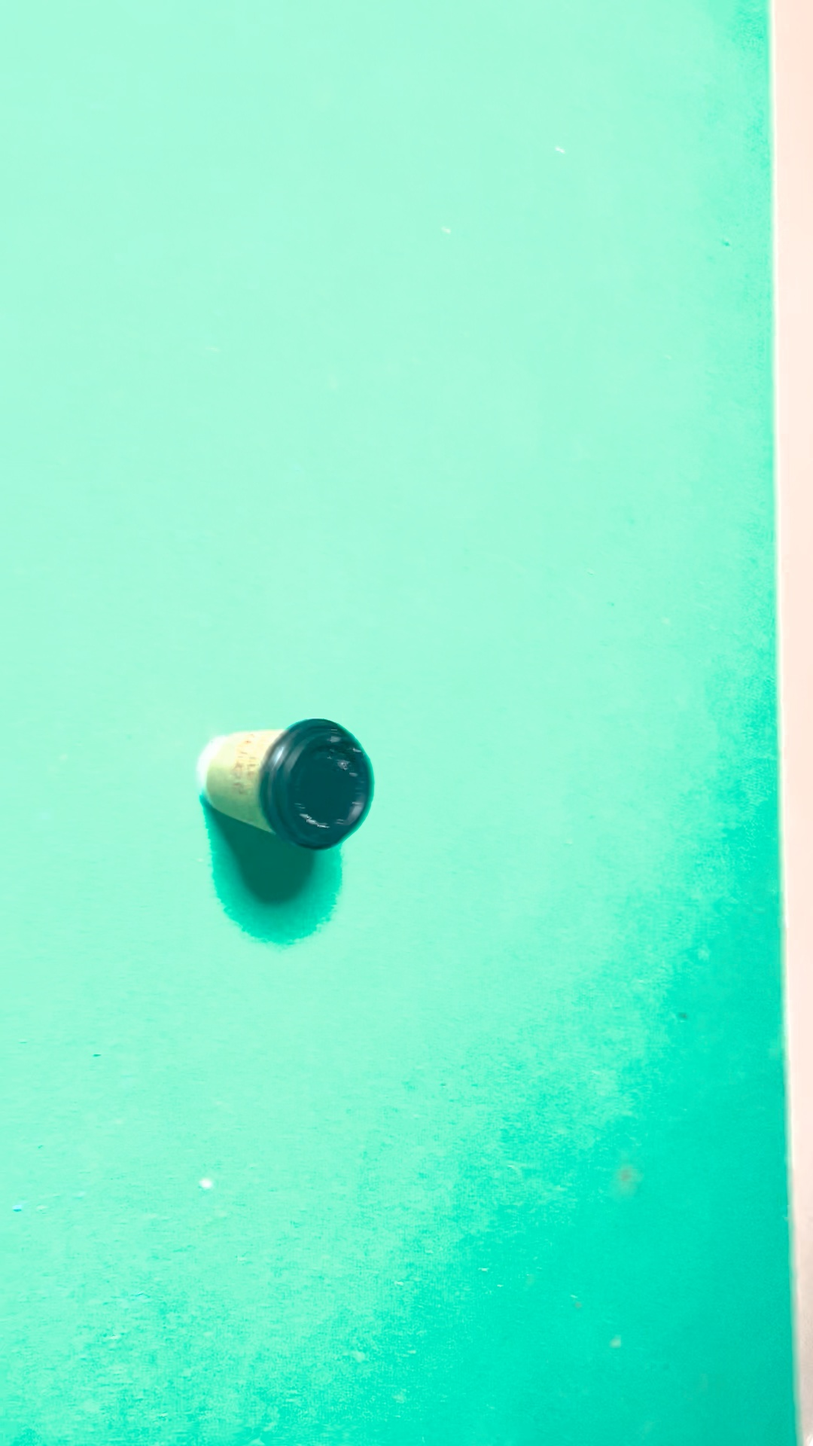cup: (411, 370, 497, 788)
